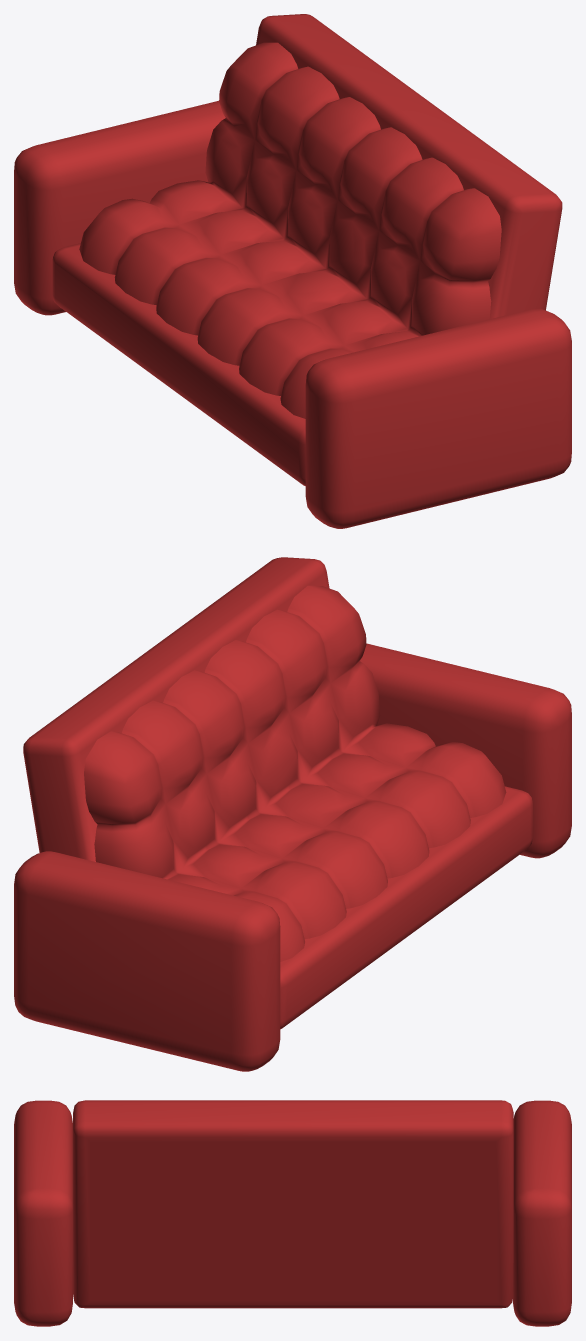
Rendered from Sofa.FBX.
The picture shows the model from 3 angles, top to bottom: view 1: azimuth 30°, elevation 25°; view 2: azimuth 150°, elevation 25°; view 3: azimuth 270°, elevation 25°; orthographic projection. The views are drawn at different scales.
Visible parts, largest first — view 1: Sofa; view 2: Sofa; view 3: Sofa.
Boxes of the visible parts, left/top/right/bottom form: Sofa: left=14, top=14, right=571, bottom=528; Sofa: left=14, top=557, right=571, bottom=1071; Sofa: left=14, top=1100, right=571, bottom=1326.
Size of the model in its own units: 23.19 by 21.25 by 48.49.
